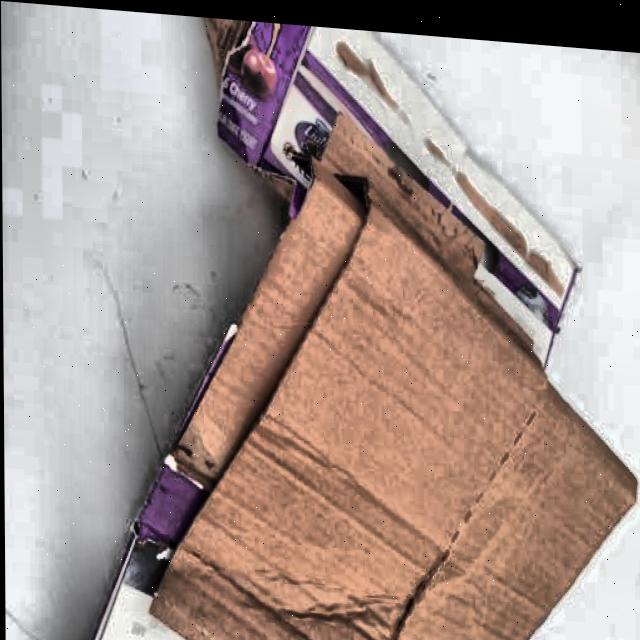cardboard: (142, 93, 640, 640)
